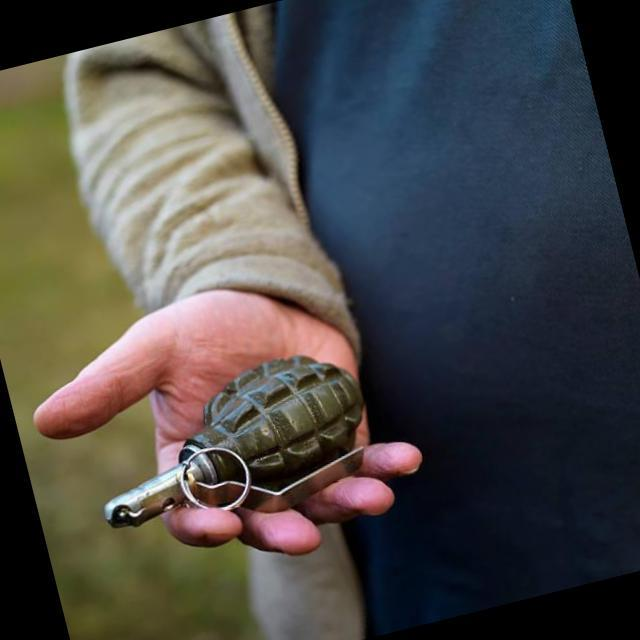grenade: (74, 338, 396, 536)
